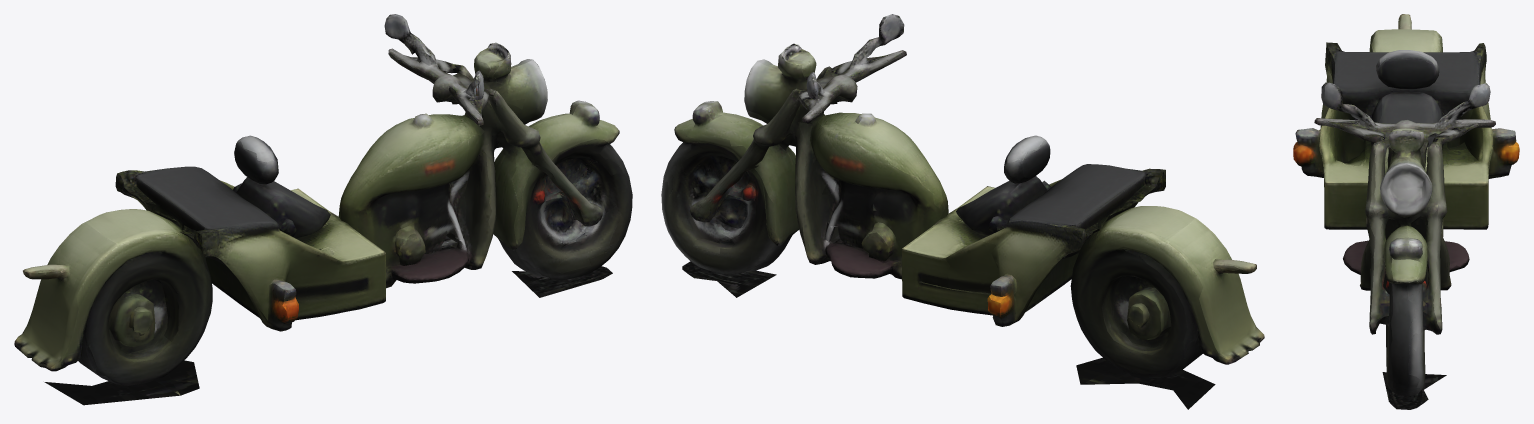
The model's file is motorcycle.glb.
3 renders of one model, left to right at view 1: azimuth 30°, elevation 25°; view 2: azimuth 150°, elevation 25°; view 3: azimuth 270°, elevation 25°, orthographic. The views are drawn at different scales.
Parts seen in each view (by area): view 1: geometry_0; view 2: geometry_0; view 3: geometry_0.
Part boxes in pixels (x1,y1,x2,y2): geometry_0: (14,14,632,405); geometry_0: (661,14,1264,409); geometry_0: (1293,14,1519,409).
Size of the model in its own units: 0.7071 by 0.3002 by 0.247.
1 material, 1 textured.
